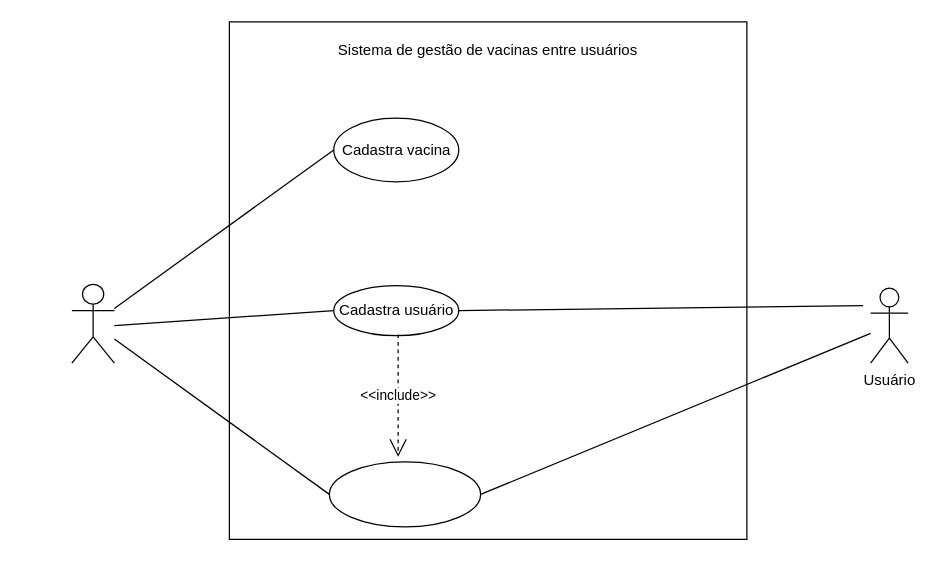
The diagram is 936 pixels wide and 561 high, and some of its shapes have lost their labels. The box of each missing label's shape, as (x1, y1, x2, y2) in pixels:
Atualiza cartão de vacina do usuário: (328, 461, 481, 527)
Profissional da saúde: (71, 283, 114, 363)
